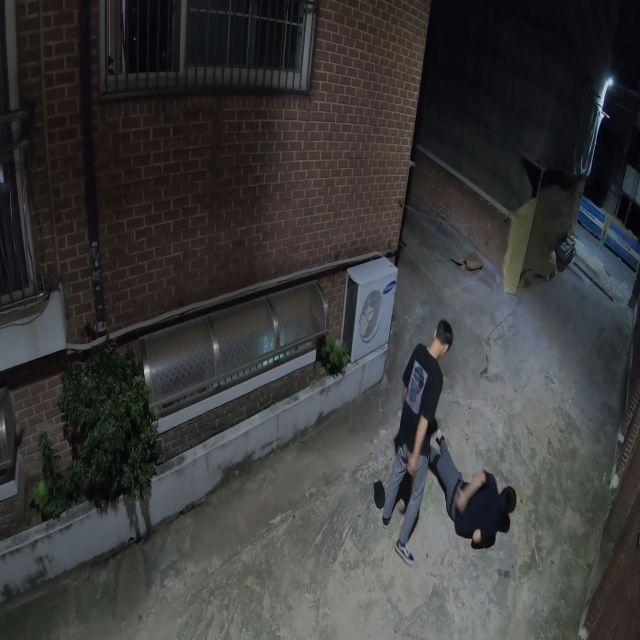fight: (385, 316, 518, 564)
